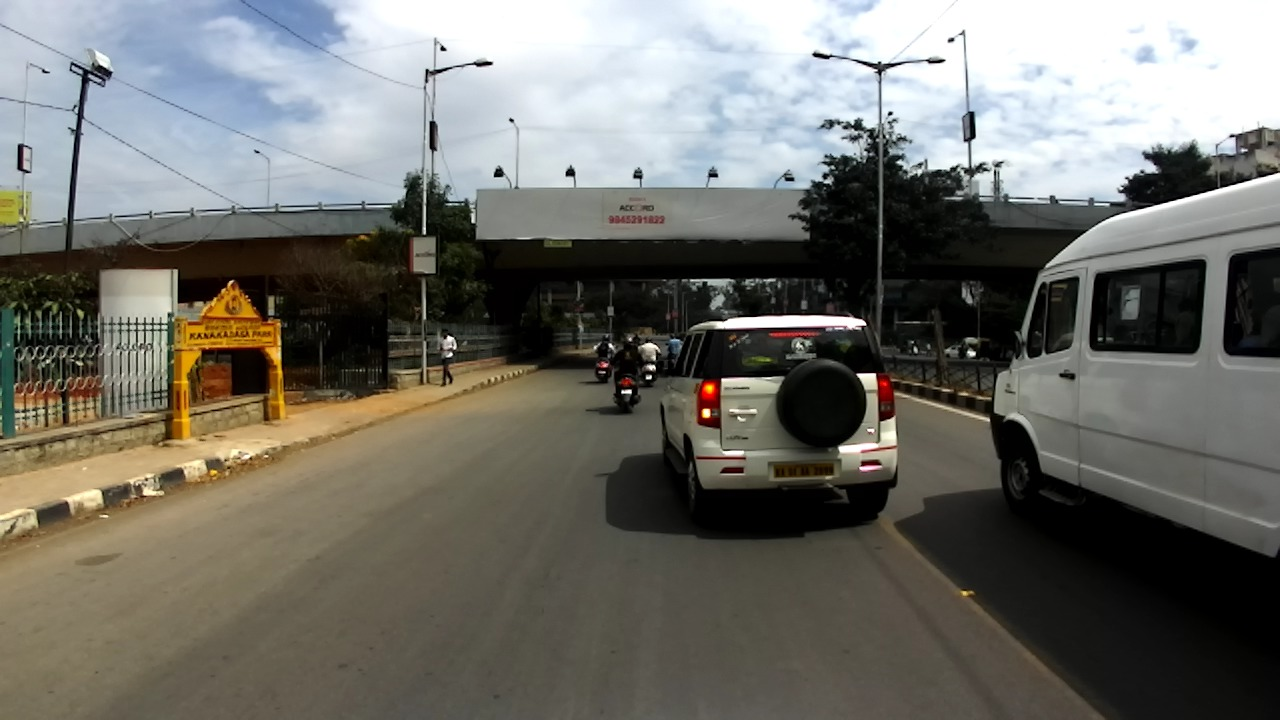bus: (989, 174, 1279, 562)
car: (658, 315, 900, 521), (944, 342, 978, 358), (901, 339, 920, 352)
motorcycle: (612, 358, 646, 414), (594, 343, 622, 384), (637, 349, 663, 387), (665, 343, 685, 376), (907, 346, 920, 357)
person: (435, 327, 458, 387), (925, 339, 932, 358)
rider: (612, 337, 643, 402), (638, 335, 662, 380), (592, 333, 617, 376), (666, 333, 684, 369), (630, 333, 643, 348), (911, 340, 918, 352)
vehicle fallback: (958, 337, 979, 361)
